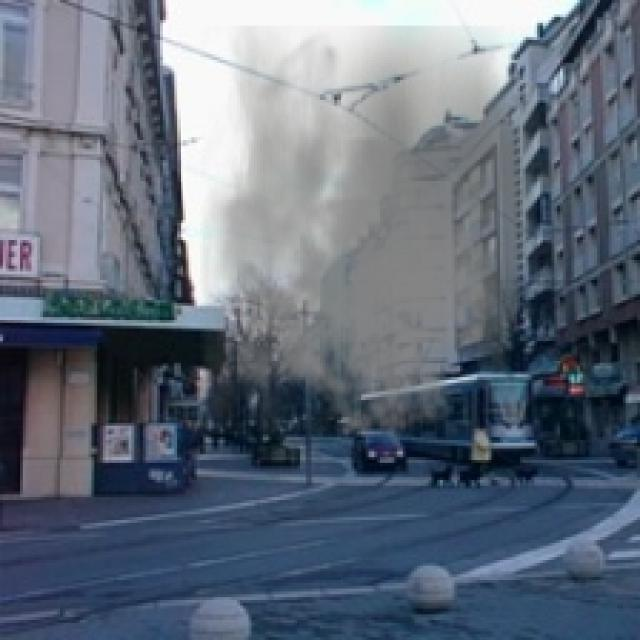smoke: (200, 26, 543, 448)
